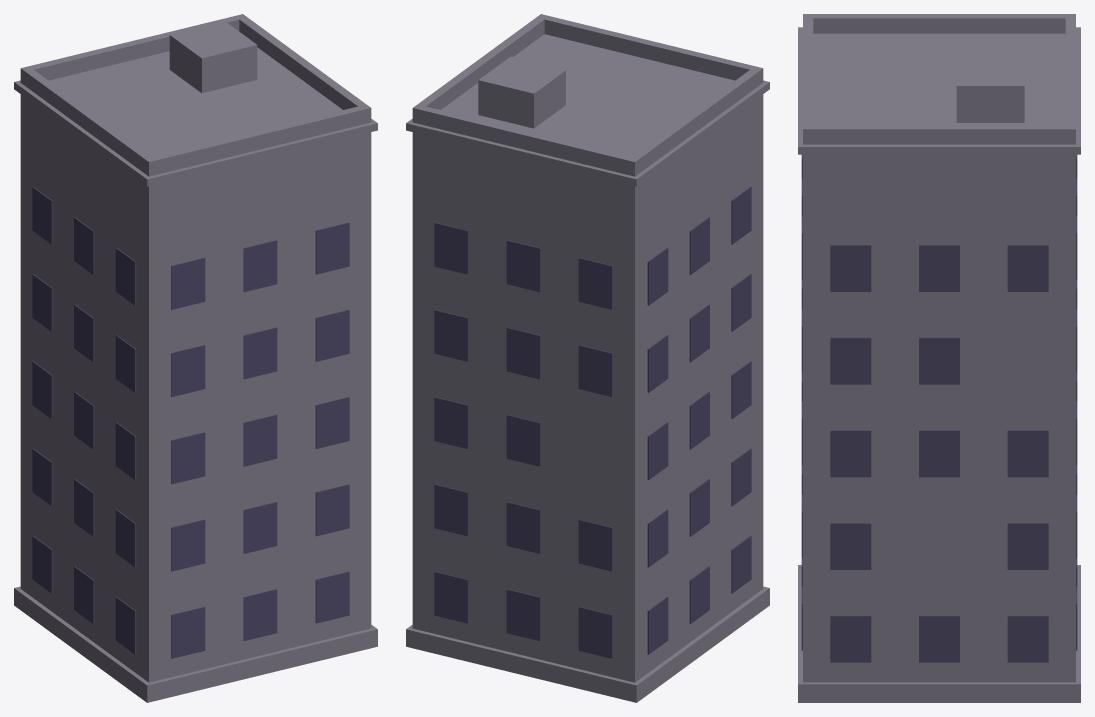
File: DistantBuilding18m.glb
3 renders of one model, left to right at view 1: azimuth 30°, elevation 25°; view 2: azimuth 150°, elevation 25°; view 3: azimuth 270°, elevation 25°, orthographic. The views are drawn at different scales.
Visible parts, largest first — view 1: mass, window (×30), parapet (×4), plinth, cornice, roof-box; view 2: mass, window (×29), parapet (×4), cornice, plinth, roof-box; view 3: mass, window (×13), parapet (×4), cornice, plinth, roof-box.
Part boxes in pixels (left/top/right/bottom): mass: left=20, top=47, right=371, bottom=682; window (×30): left=32, top=186, right=349, bottom=658; parapet (×4): left=20, top=14, right=371, bottom=176; plinth: left=14, top=586, right=377, bottom=702; cornice: left=14, top=51, right=377, bottom=186; roof-box: left=169, top=21, right=257, bottom=93; mass: left=412, top=34, right=763, bottom=682; window (×29): left=434, top=186, right=751, bottom=658; parapet (×4): left=412, top=14, right=763, bottom=176; cornice: left=406, top=34, right=769, bottom=186; plinth: left=406, top=586, right=769, bottom=702; roof-box: left=478, top=56, right=565, bottom=128; mass: left=803, top=34, right=1075, bottom=682; window (×13): left=830, top=245, right=1048, bottom=662; parapet (×4): left=803, top=14, right=1075, bottom=144; cornice: left=798, top=27, right=1080, bottom=154; plinth: left=798, top=565, right=1080, bottom=702; roof-box: left=956, top=57, right=1024, bottom=122.
Bounding box in the file's own units: 8.3 × 19.2 × 8.3.
